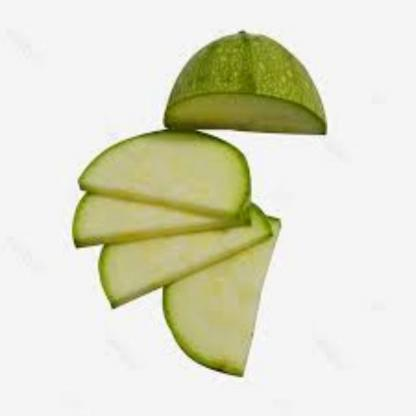vegetable marrow: (109, 182, 302, 376), (151, 9, 342, 137), (70, 126, 258, 250)
